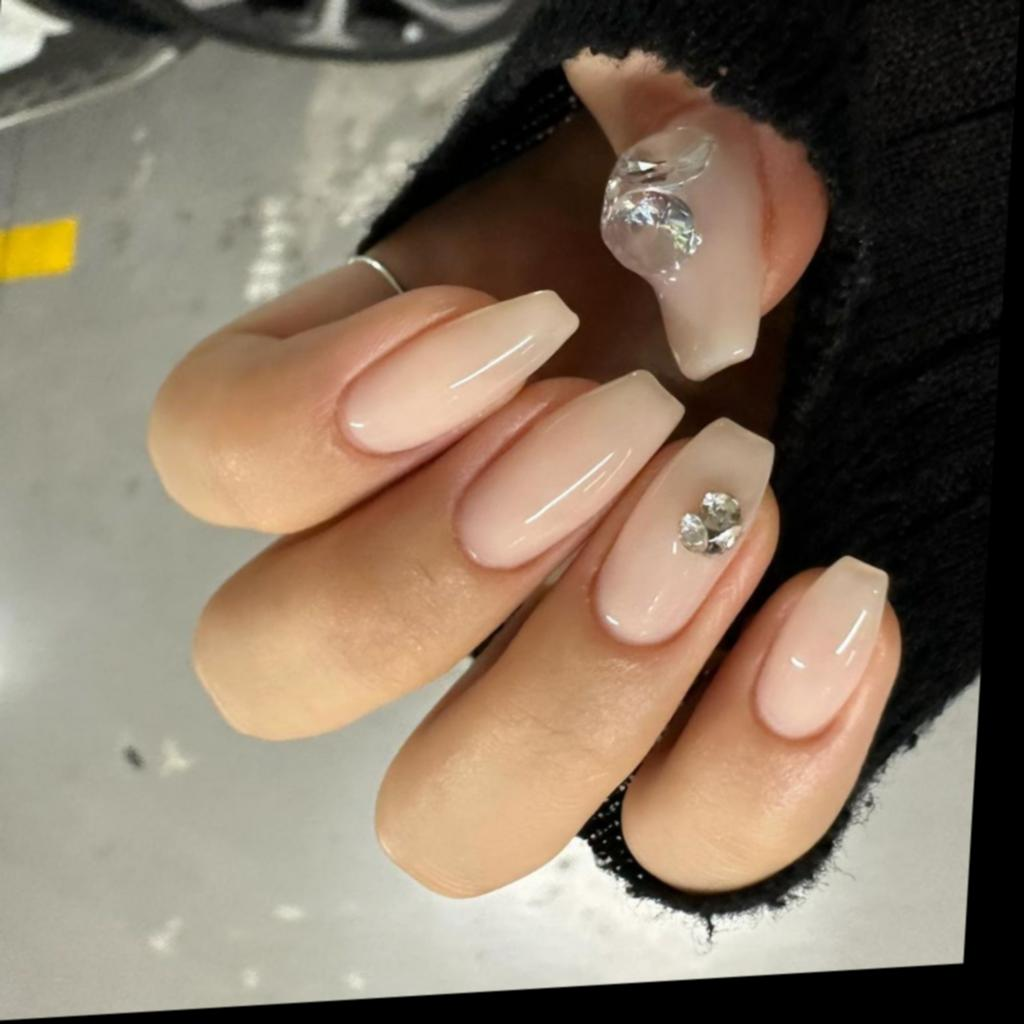nail: (365, 412, 784, 905), (586, 111, 775, 388), (447, 365, 687, 574), (583, 412, 779, 650), (328, 284, 581, 460), (744, 551, 892, 745)
